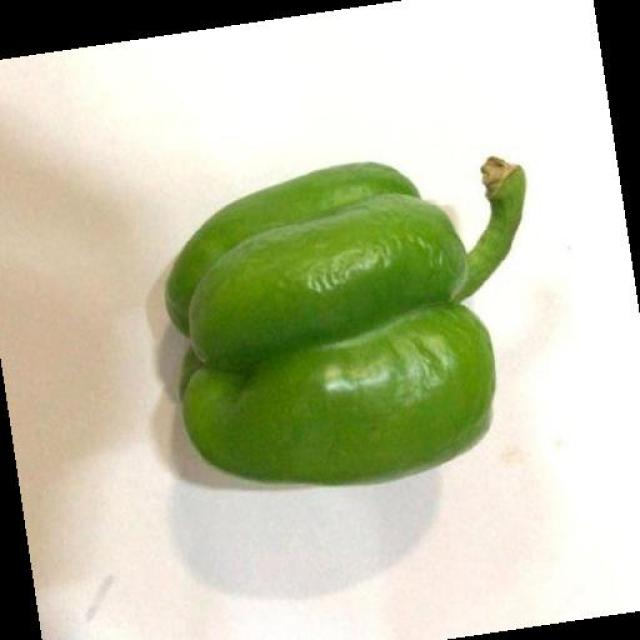Fresh_Capsicum: (157, 117, 563, 511)
